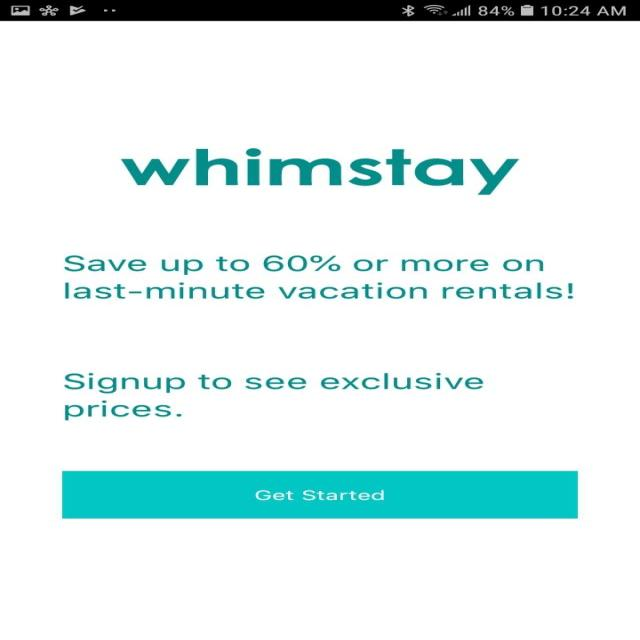Text: (63, 254, 574, 299), (63, 372, 484, 420), (120, 147, 519, 195)
TextButton: (62, 471, 578, 518)
